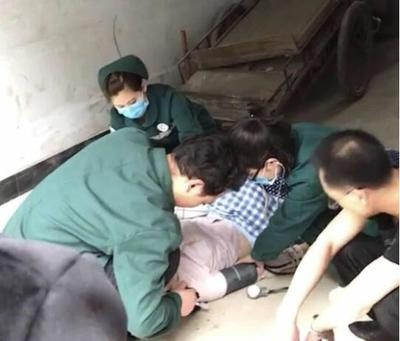falling: (150, 170, 294, 314)
